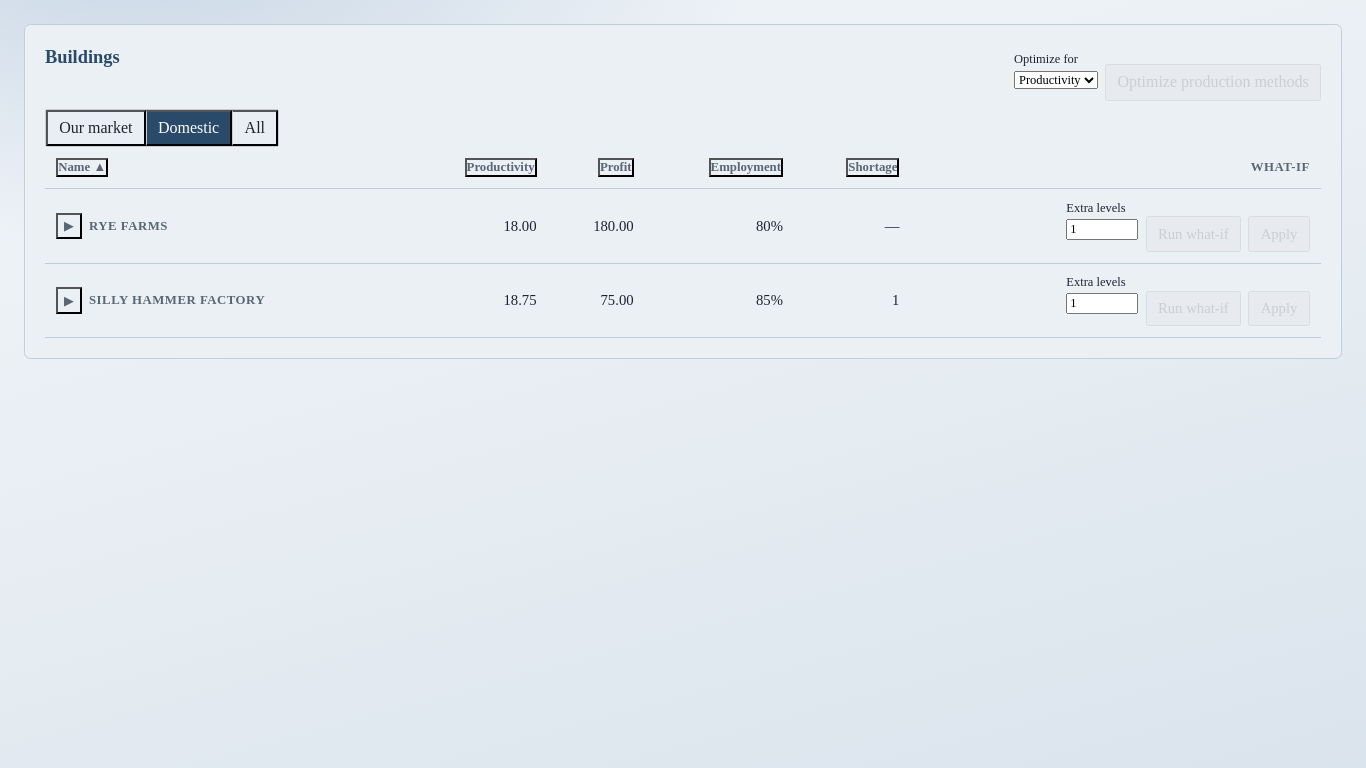
Test: BuildingsPane › expands a type to instance rows with production methods
Click the button named "Expand Silly Hammer Factory". click: [69, 301]
box: [56,288,82,314]
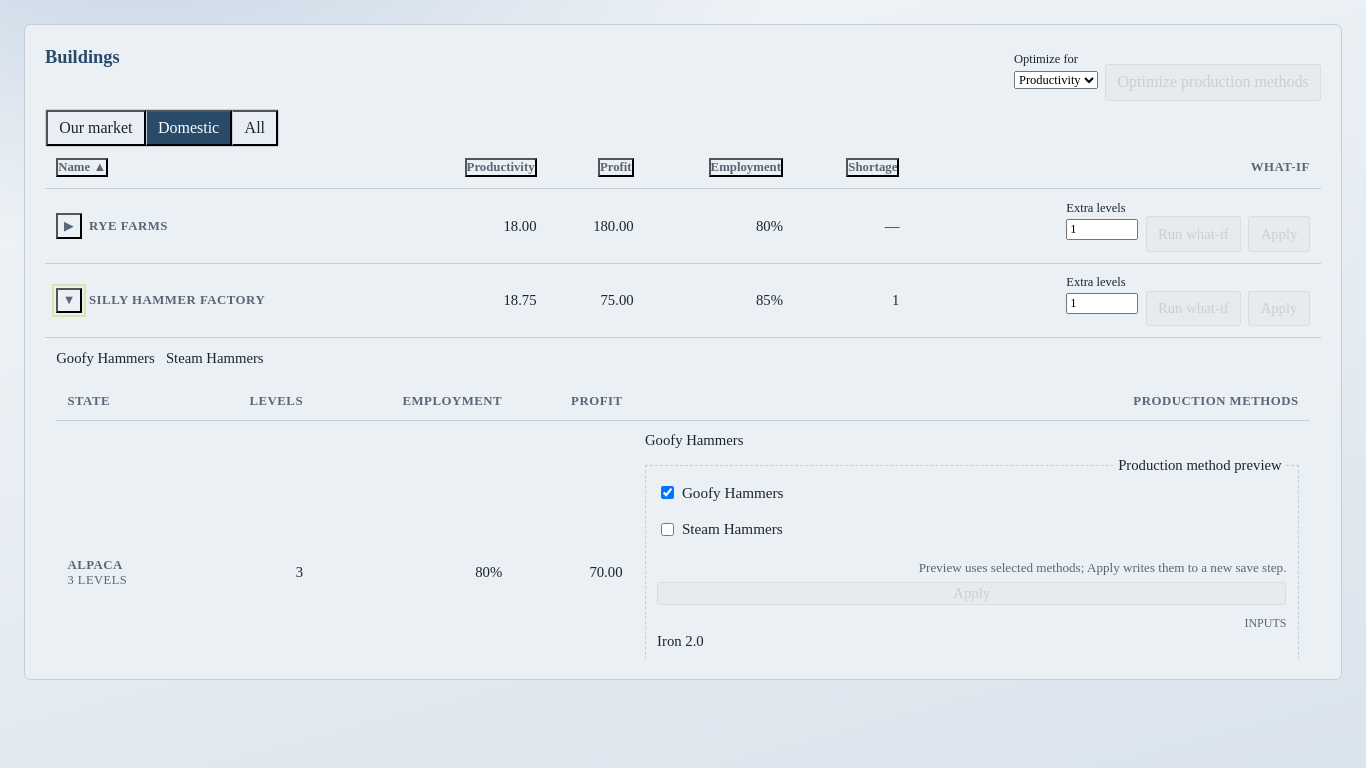
Check: the 1st list item "Goofy Hammers" is shown, box [56,350,155,367]
